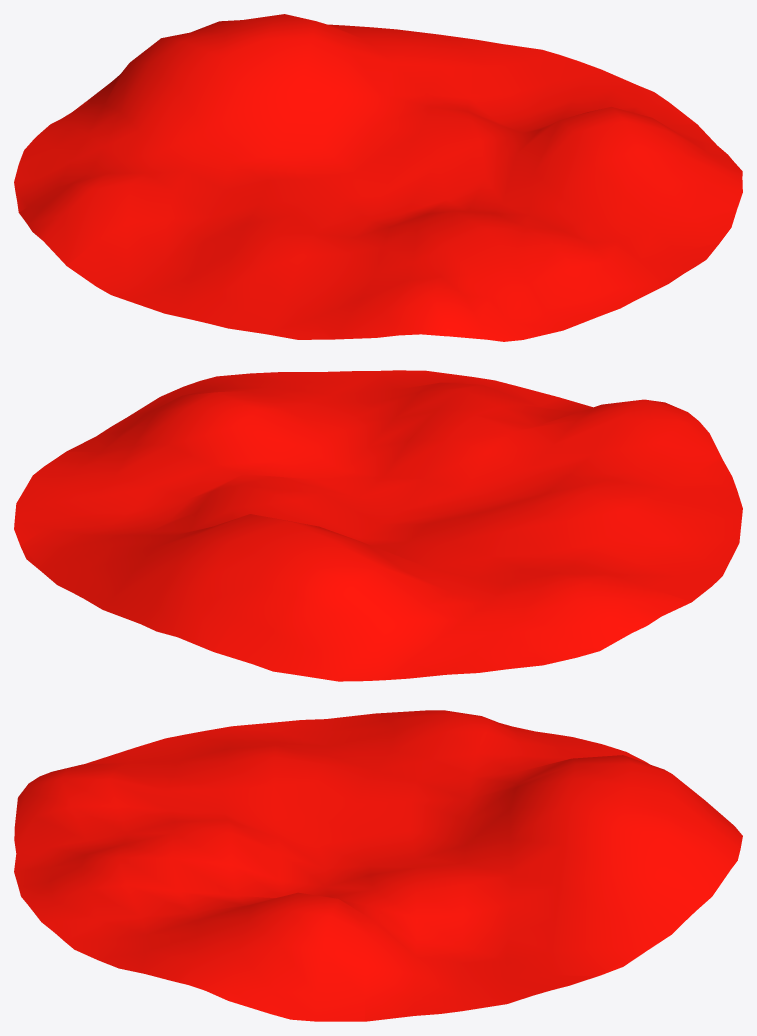
The model's file is SM_Tomato_Boil_Plate.fbx.
The picture shows the model from 3 angles, top to bottom: view 1: azimuth 30°, elevation 25°; view 2: azimuth 150°, elevation 25°; view 3: azimuth 270°, elevation 25°; orthographic projection. The views are drawn at different scales.
Parts seen in each view (by area): view 1: Tomato_Boil_Plate; view 2: Tomato_Boil_Plate; view 3: Tomato_Boil_Plate.
Part boxes in pixels (left/top/right/bottom): Tomato_Boil_Plate: left=14, top=14, right=742, bottom=341; Tomato_Boil_Plate: left=14, top=370, right=742, bottom=681; Tomato_Boil_Plate: left=14, top=710, right=742, bottom=1021.
Size of the model in its own units: 127 by 17.24 by 129.
